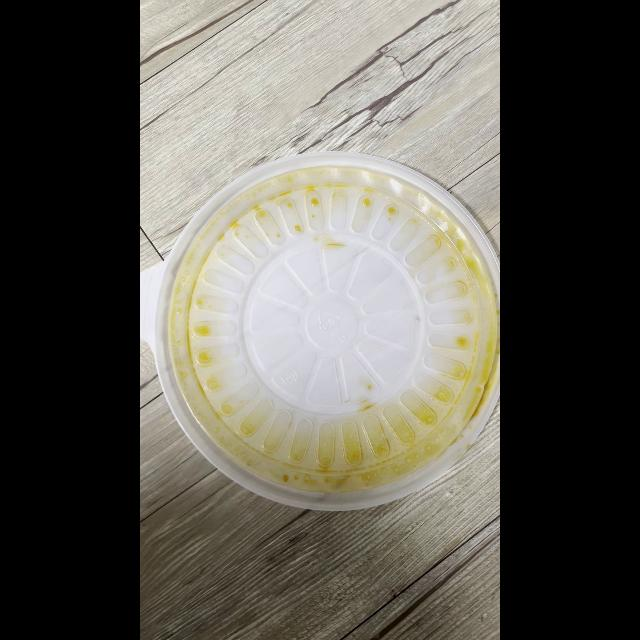dirty: (149, 152, 496, 500)
